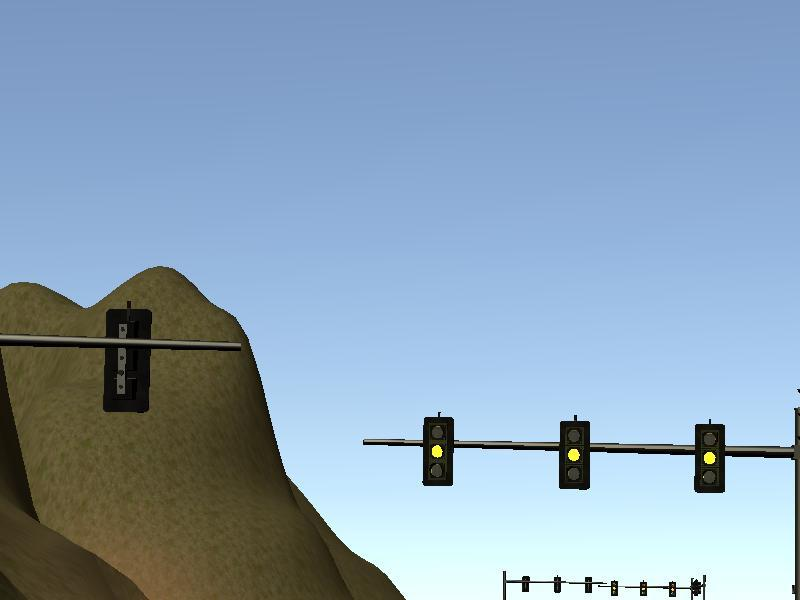Yellow: (421, 417, 454, 486), (693, 424, 725, 493), (559, 421, 591, 489)
